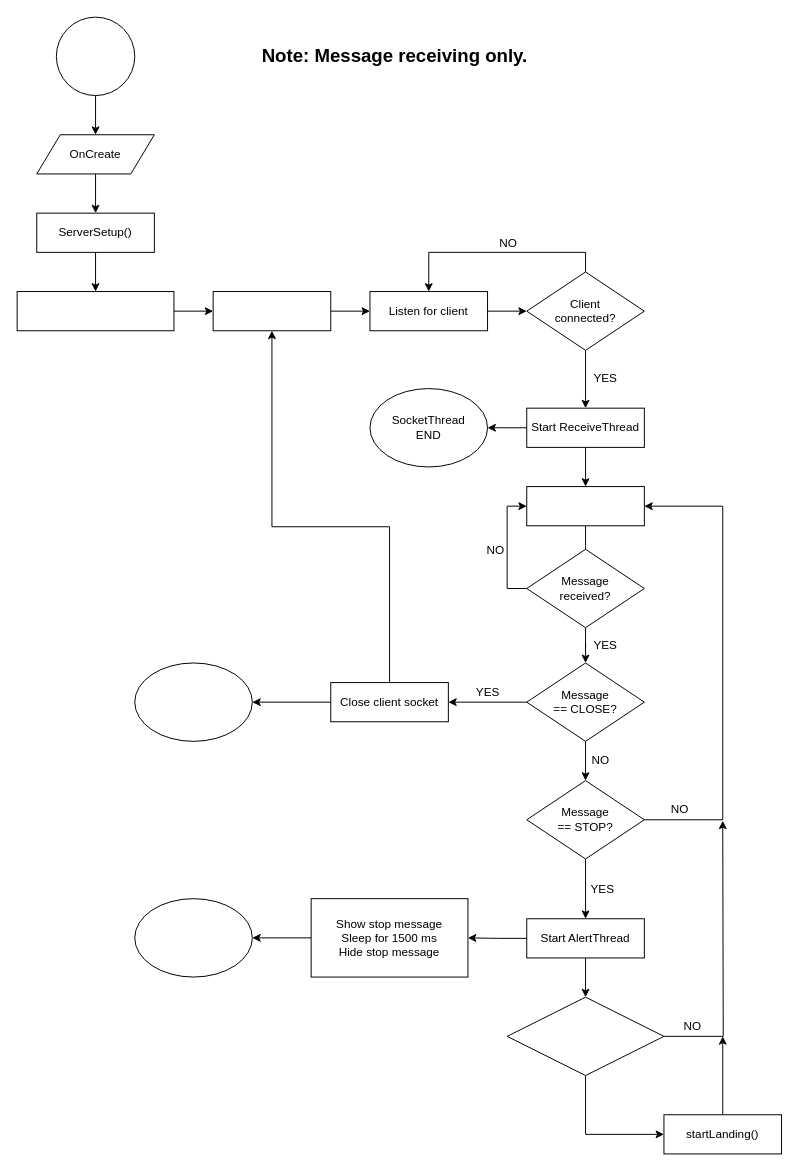
The diagram is 799 pixels wide and 1171 high, and some of its shapes have lost their labels. Here are the shapes that lost their labels. From the top down, the box of each, then its label:
(55, 16, 135, 96): START
(16, 291, 174, 331): Create server socket
(212, 291, 331, 331): Start SocketThread
(526, 486, 644, 526): Wait for message
(134, 662, 252, 741): ReceiveThread END
(134, 898, 252, 977): AlertThread END
(506, 996, 664, 1076): autoLandingEnabled?
